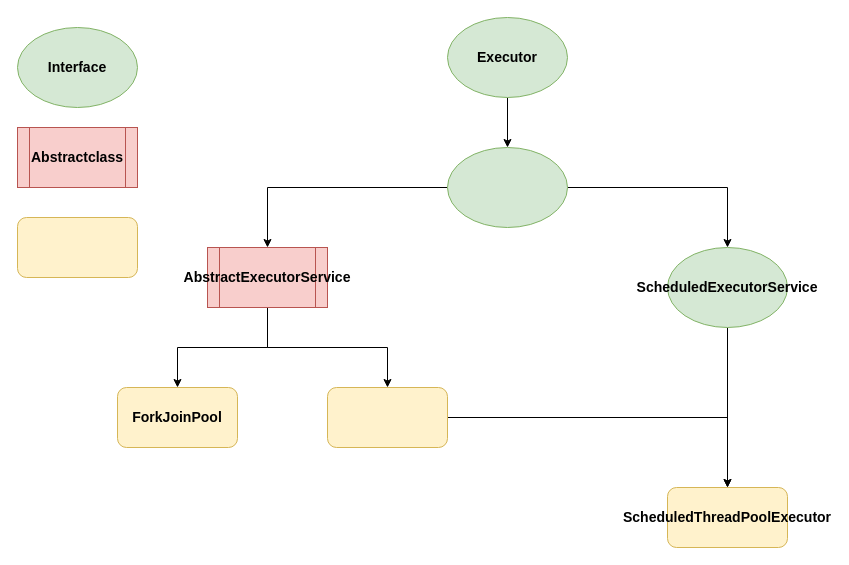
Some shapes in this 849 by 565 pixel diagram are drawn without their labels. The shapes that lost their labels are listed below. From the top down, each one's centre as x and y in pixels, then its label:
the point at 507,187: ExecutorService
the point at 77,247: class
the point at 387,417: ThreadPoolExecutor
